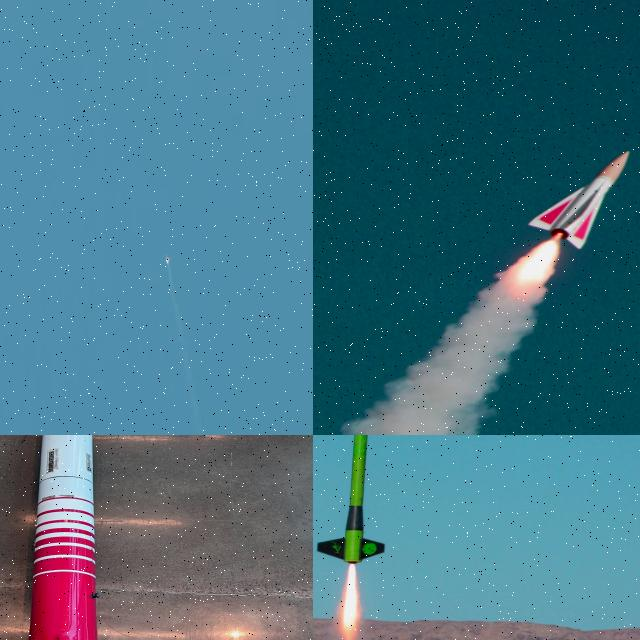Rocket: (28, 435, 101, 640), (527, 150, 630, 250), (315, 435, 385, 565), (166, 254, 169, 264)
